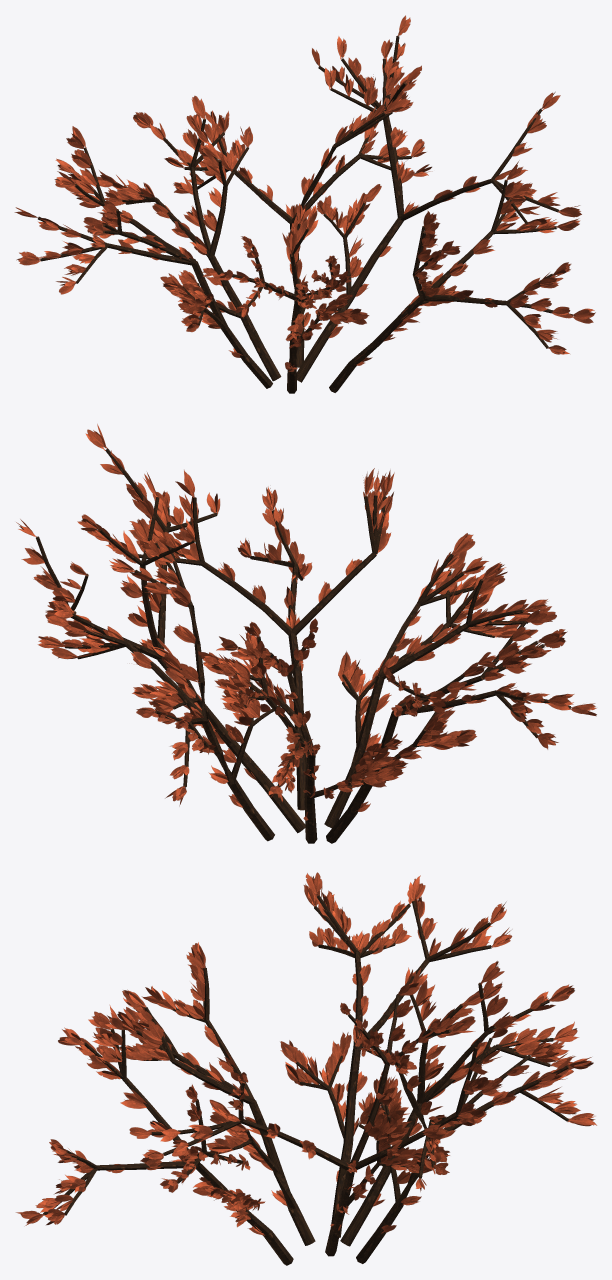
The model's file is sumac_scrub_v02.glb.
The picture shows the model from 3 angles, top to bottom: view 1: azimuth 30°, elevation 25°; view 2: azimuth 150°, elevation 25°; view 3: azimuth 270°, elevation 25°; orthographic projection. The views are drawn at different scales.
Parts seen in each view (by area): view 1: sumac_scrub_v02; view 2: sumac_scrub_v02; view 3: sumac_scrub_v02.
Boxes of the visible parts, x1,y1,x2,y2 form: sumac_scrub_v02: (14, 15, 595, 393); sumac_scrub_v02: (16, 424, 596, 843); sumac_scrub_v02: (16, 872, 596, 1265).
Size of the model in its own units: 3.96 by 2.26 by 3.67.
2 materials, 2 textured.
